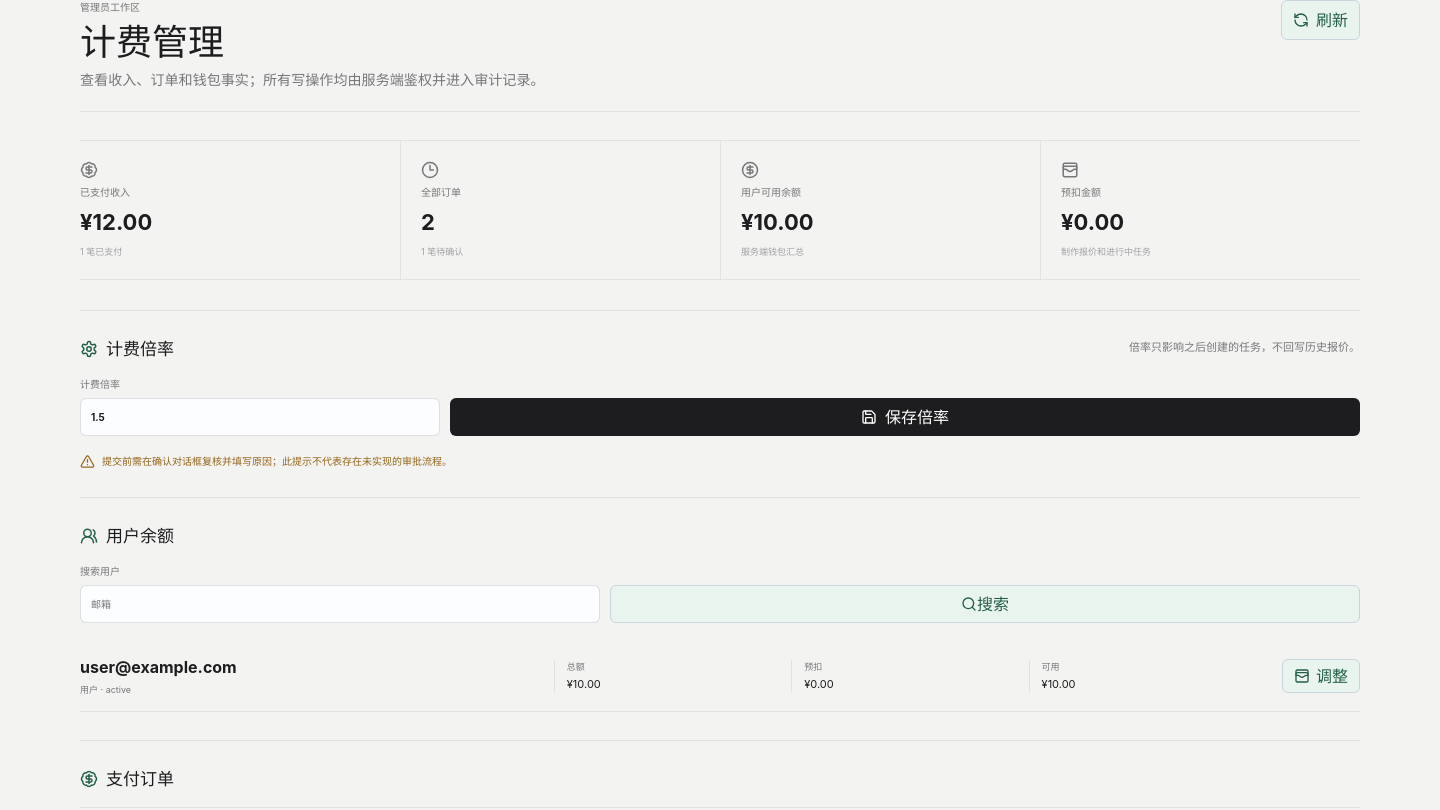
Scenario: BillingAdminPage › requires a confirmation reason before updating the multiplier
Replace the text in the field labelled "计费倍率" with "1.800" at (260, 417), box [80,398,440,436]
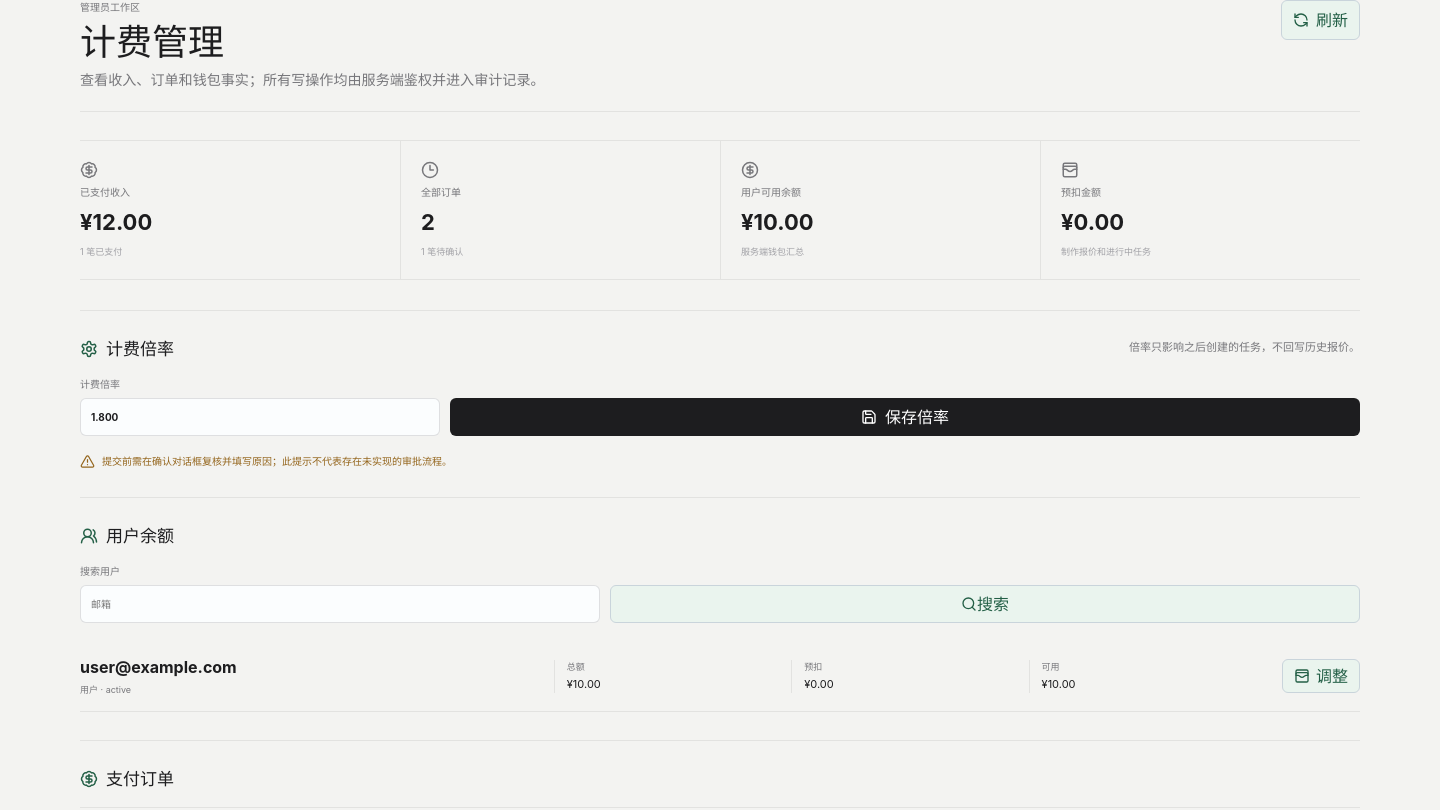
Click the button "保存倍率" at (905, 417), box [450,398,1360,436]
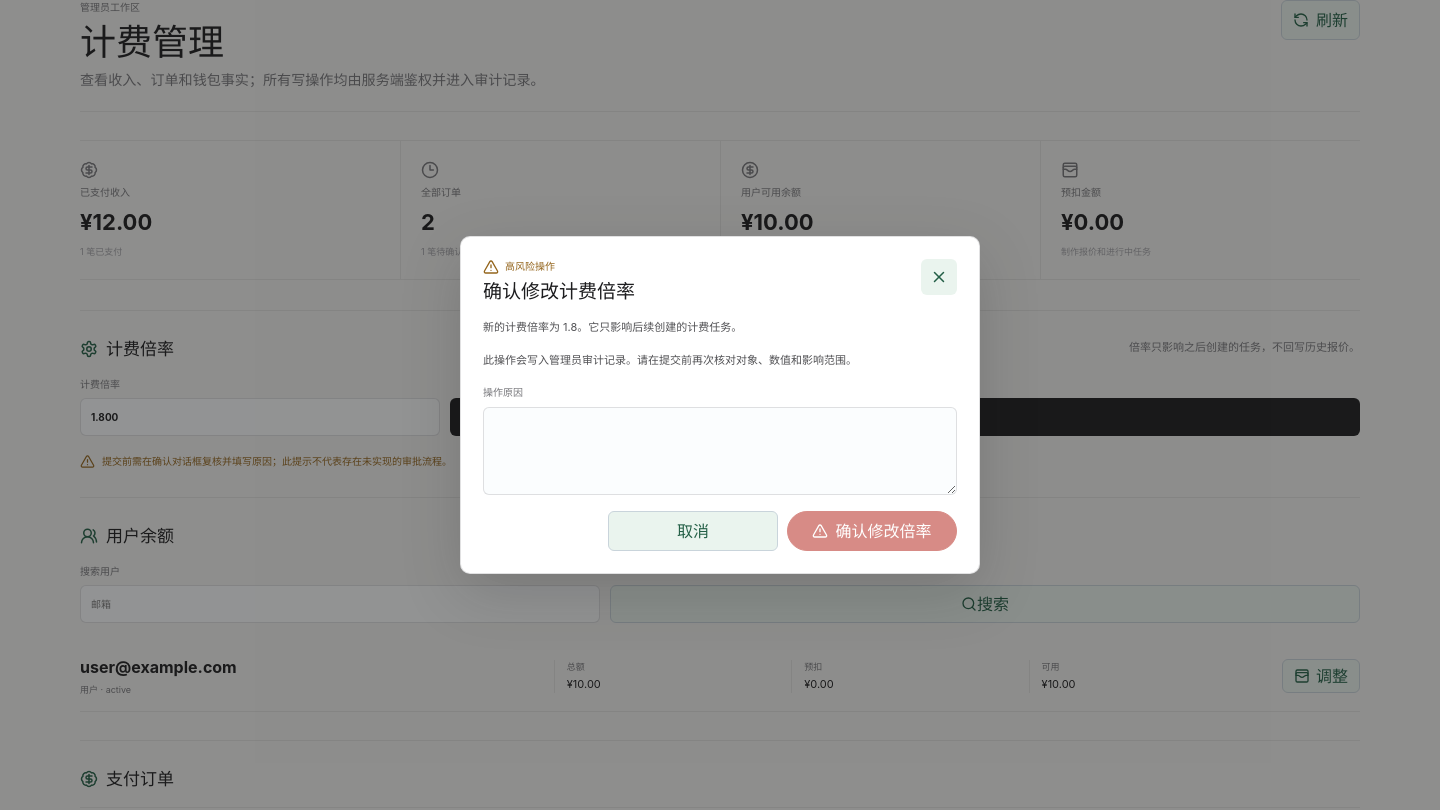
Expected: the button "确认修改倍率" is disabled, [787,511,957,551]
Type "成本复核" into the text box labelled "操作原因" at (720, 451), box [483,407,957,495]
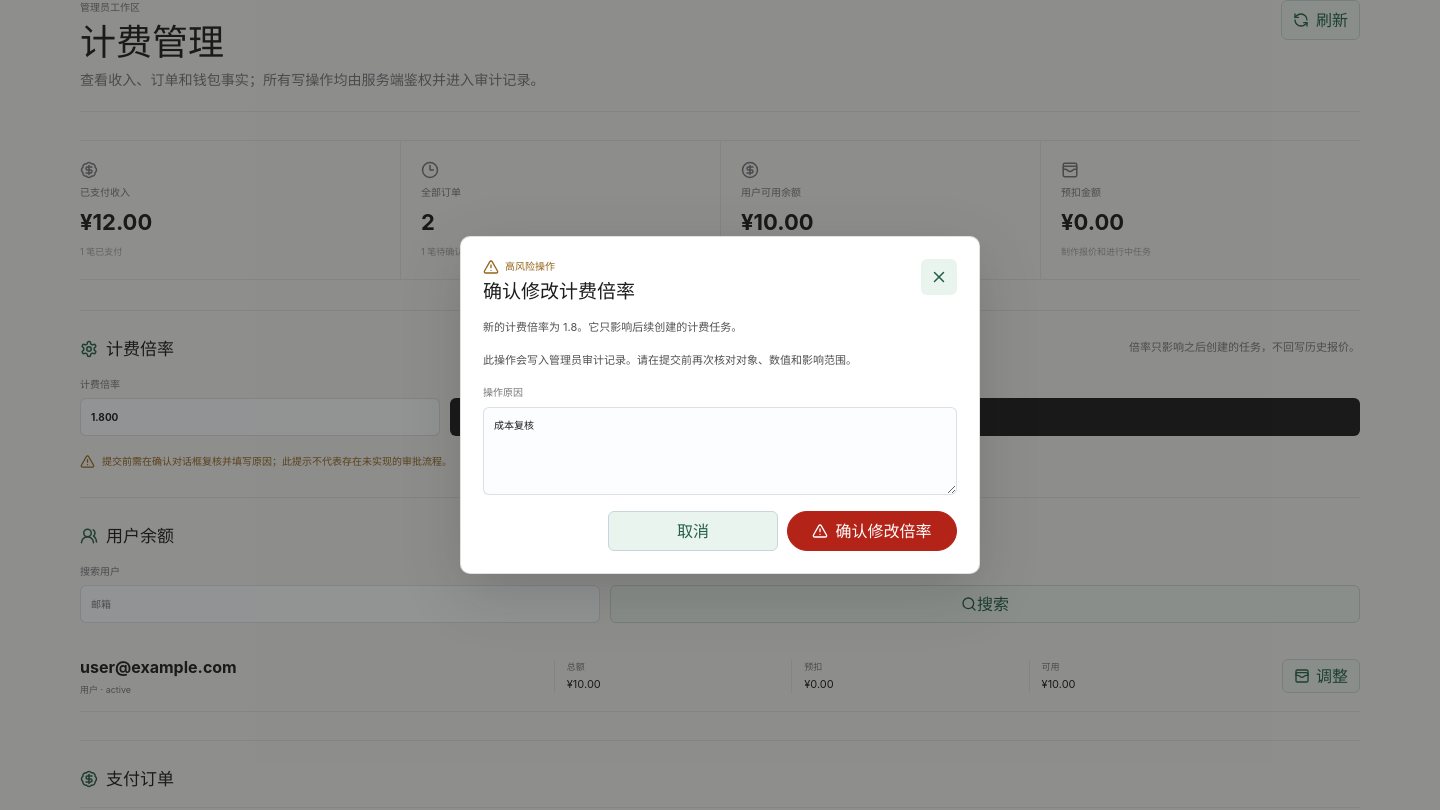
Click the button "确认修改倍率" at (872, 531), box [787,511,957,551]
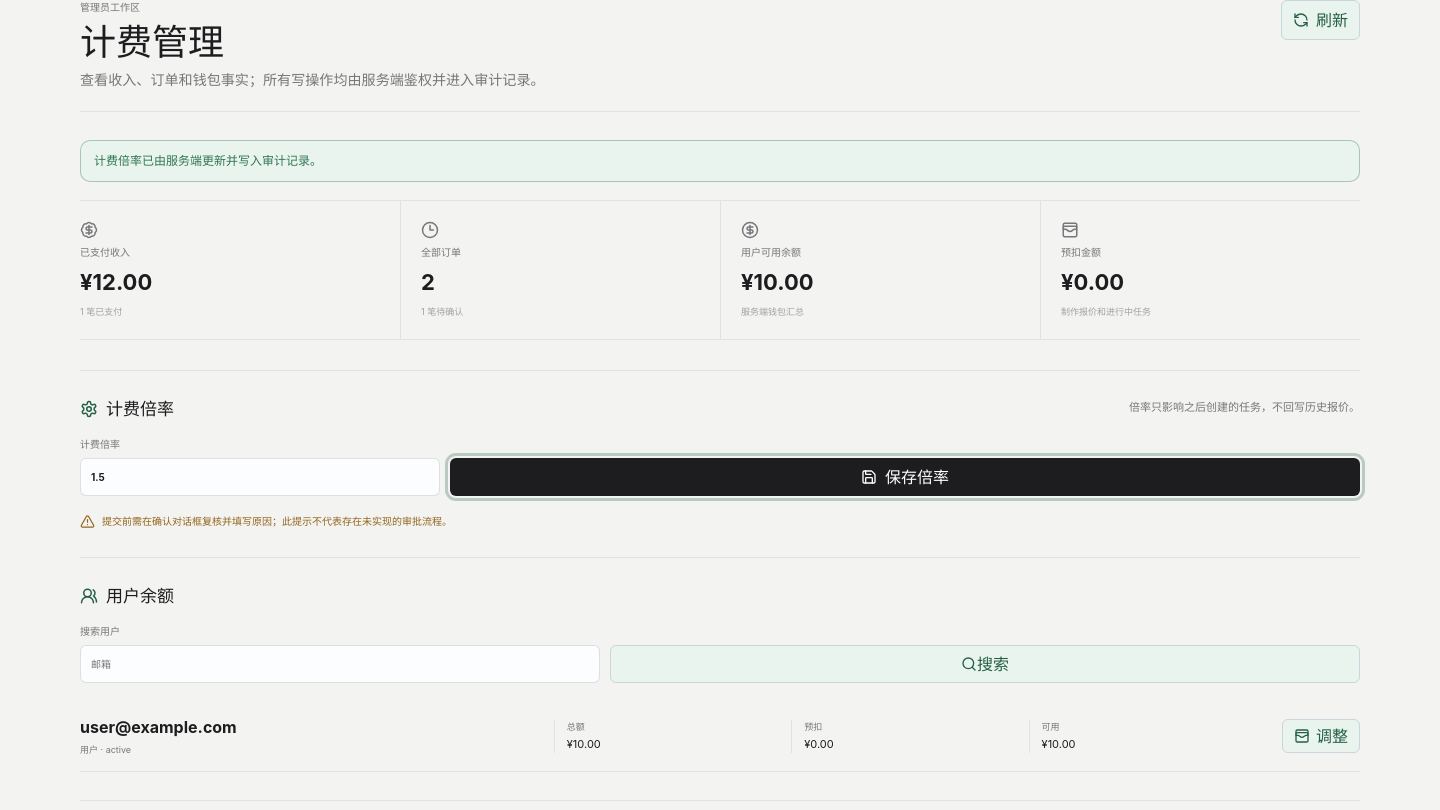
Expected: the message shows "计费倍率已由服务端更新", [94,153,322,168]
